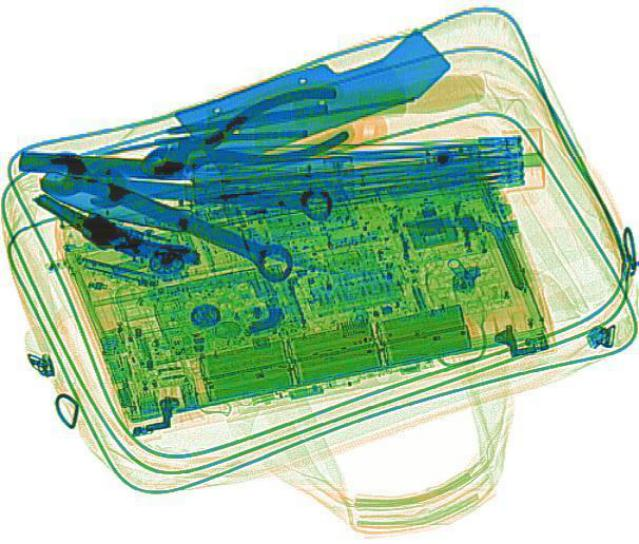Knife: (32, 164, 287, 266), (18, 147, 353, 179)
Pliers: (126, 79, 357, 196)
Wrench: (29, 145, 304, 289), (37, 152, 336, 222)
